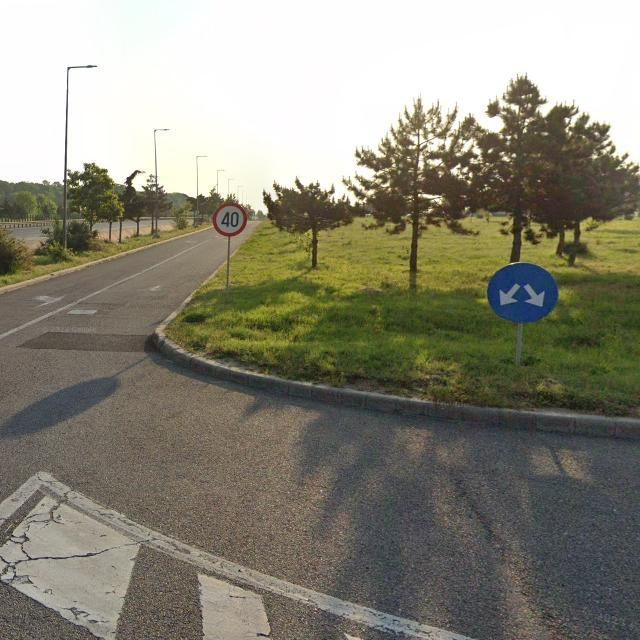forb_speed_over_40: (213, 202, 247, 237)
